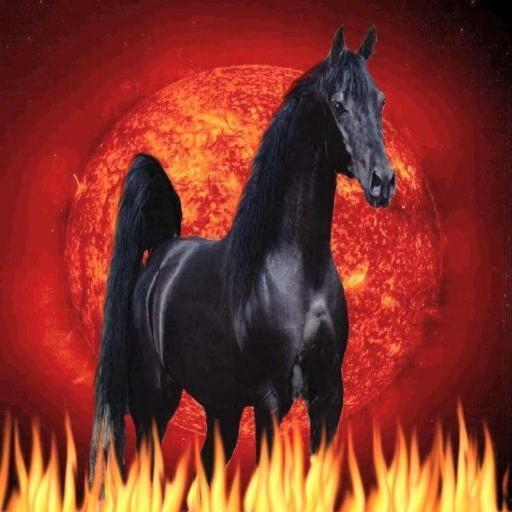horse: (90, 23, 396, 496)
